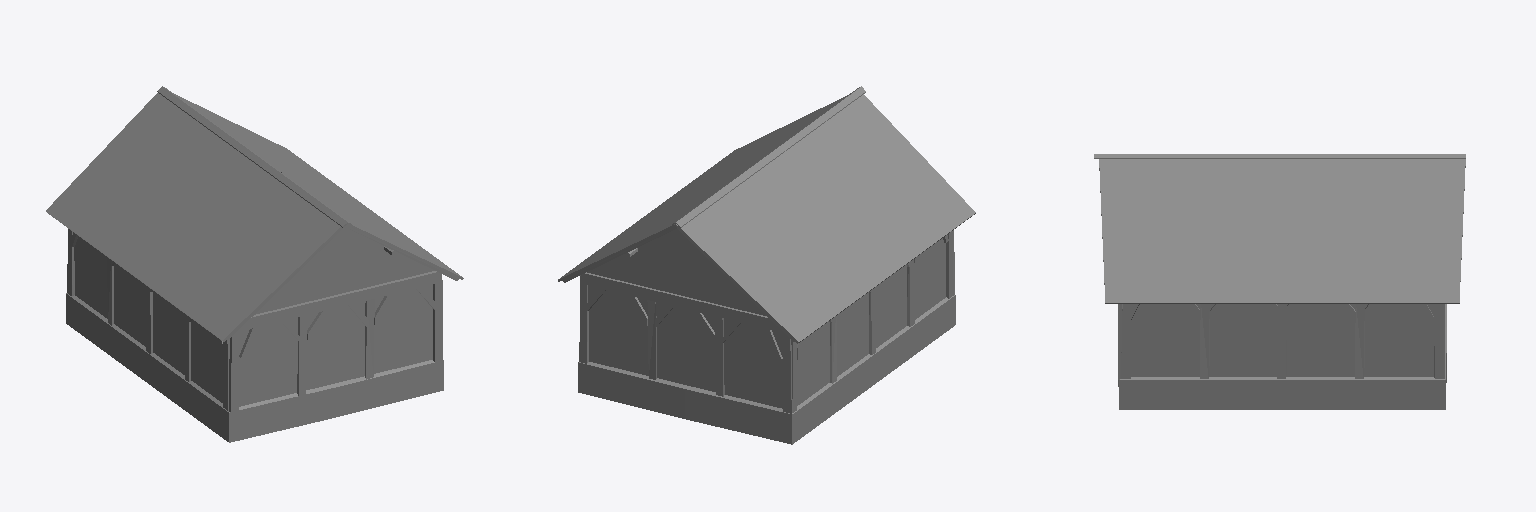
The model's file is ruralStall.obj.
The picture shows the model from 3 angles: view 1: azimuth 30°, elevation 25°; view 2: azimuth 150°, elevation 25°; view 3: azimuth 270°, elevation 25°; orthographic projection.
Parts seen in each view (by area): view 1: Object010, Object009, RuralStallVerticalWoods1, RuralStallHorizonWood1, RuralStallVerticalWoods4, RuralStallRoofCloser, RuralStallExcWood; view 2: Object010, Object009, RuralStallVerticalWoods3, Object002, RuralStallVerticalWoods4, RuralStallRoofCloser, RuralStallExcWood; view 3: Object010, Object009, RuralStallVerticalWoods2, RuralStallRoofCloser, RuralStallExcWood.
Part boxes in pixels (bbox=[...]): Object010: bbox=[46, 93, 461, 340]; Object009: bbox=[66, 224, 463, 442]; RuralStallVerticalWoods1: bbox=[229, 282, 442, 412]; RuralStallHorizonWood1: bbox=[237, 271, 442, 331]; RuralStallVerticalWoods4: bbox=[68, 229, 229, 410]; RuralStallRoofCloser: bbox=[157, 86, 351, 227]; RuralStallExcWood: bbox=[72, 228, 434, 358]; Object010: bbox=[558, 94, 975, 342]; Object009: bbox=[558, 224, 955, 444]; RuralStallVerticalWoods3: bbox=[579, 283, 792, 413]; Object002: bbox=[580, 273, 783, 332]; RuralStallVerticalWoods4: bbox=[791, 231, 953, 412]; RuralStallRoofCloser: bbox=[672, 86, 865, 227]; RuralStallExcWood: bbox=[587, 230, 948, 360]; Object010: bbox=[1099, 159, 1465, 303]; Object009: bbox=[1099, 166, 1465, 409]; RuralStallVerticalWoods2: bbox=[1121, 304, 1442, 378]; RuralStallRoofCloser: bbox=[1094, 154, 1465, 158]; RuralStallExcWood: bbox=[1131, 304, 1433, 327].
Bounding box in the file's own units: 564 × 455 × 752.